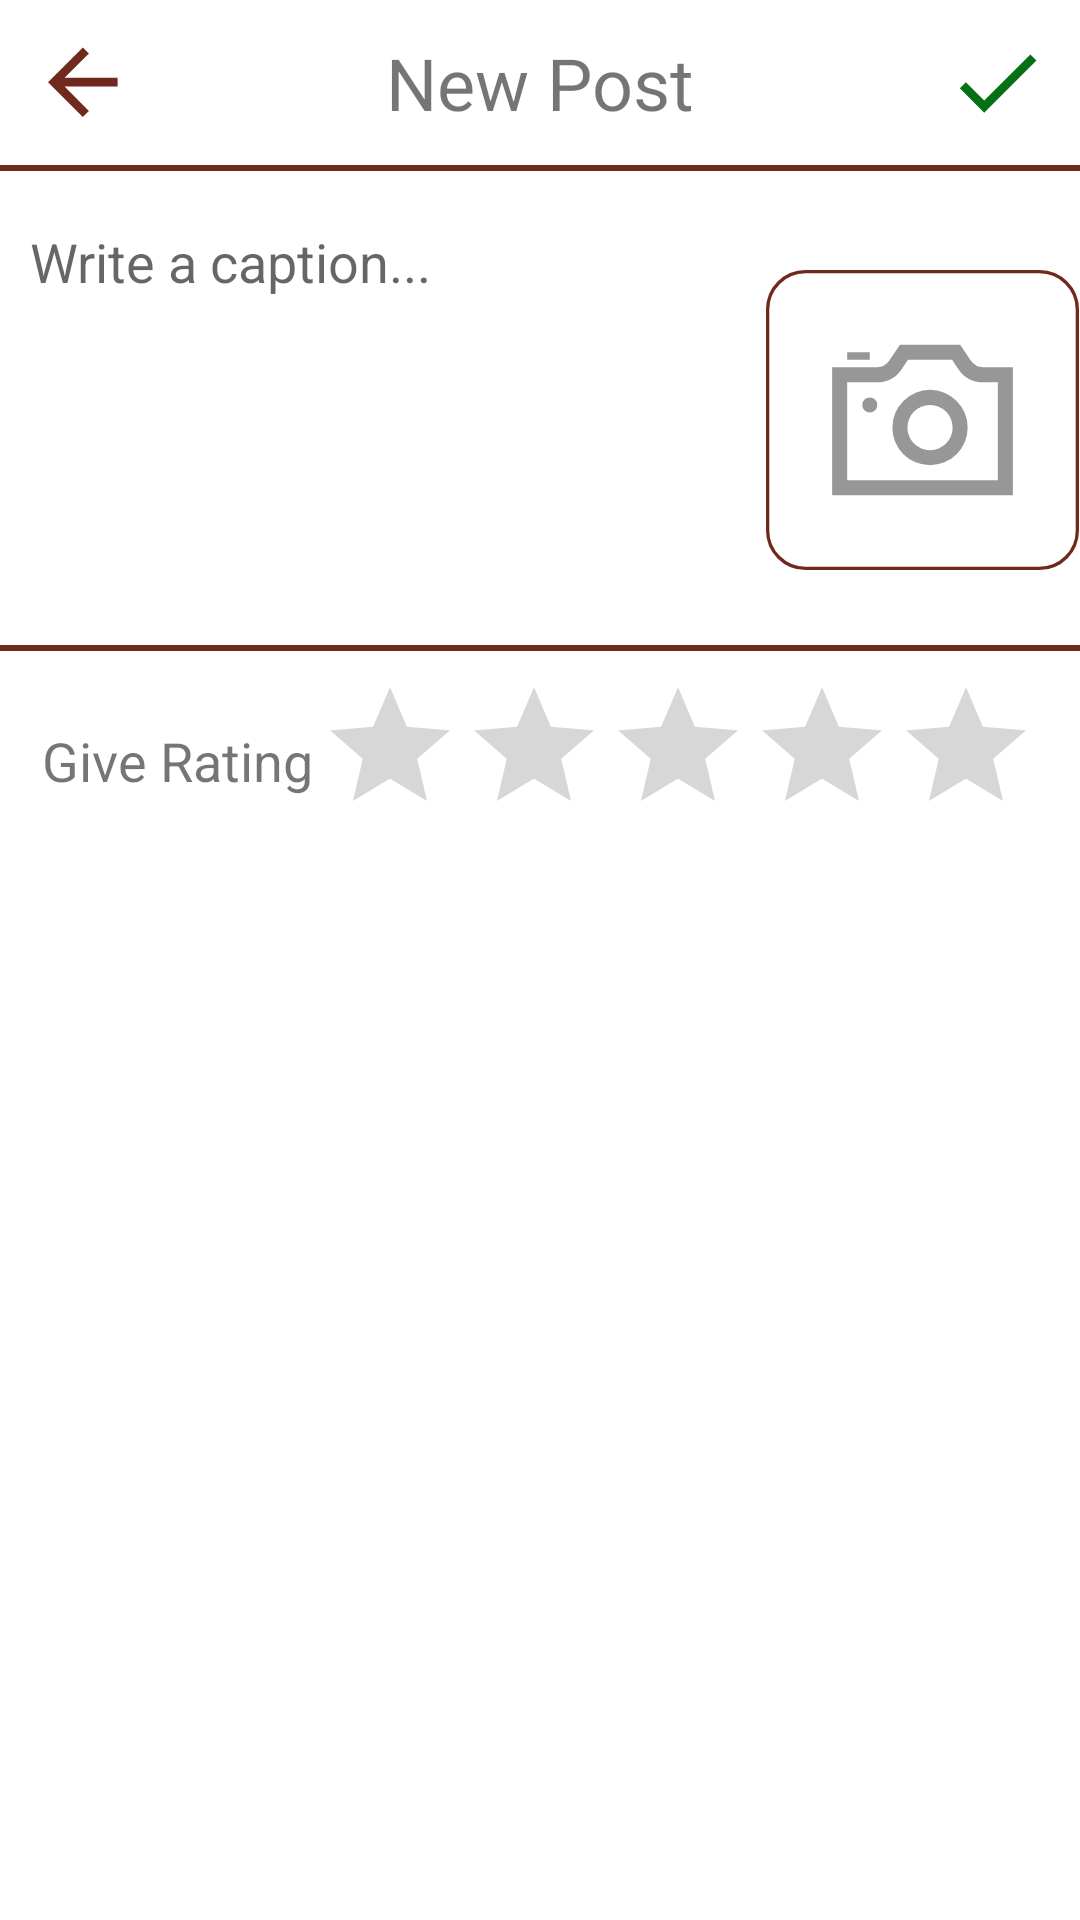

Screen size 1080x1920. Icon name, then its center in pixels as point (x, y):
back arrow: point (83, 82)
camera: point (922, 420)
done check: point (998, 83)
